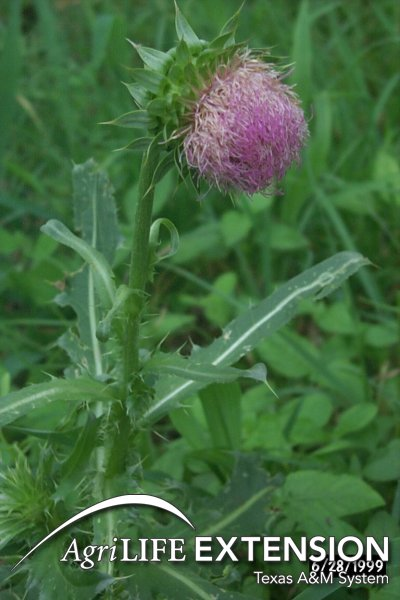thistle: (117, 1, 315, 203)
